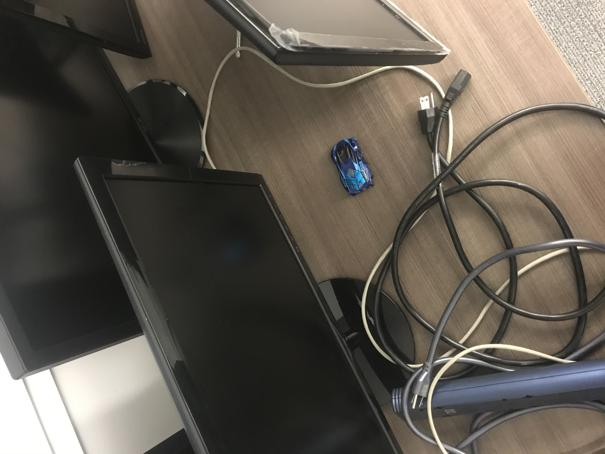Shock: (330, 137, 377, 197)
